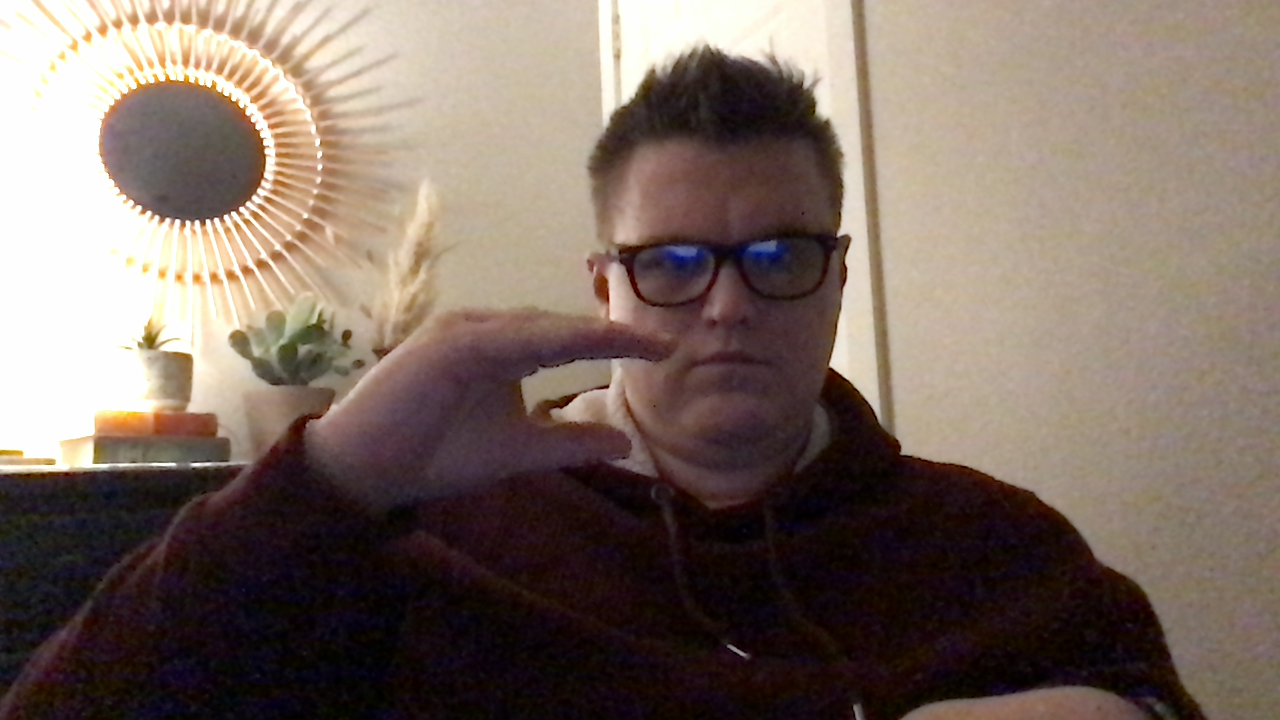no: (316, 300, 683, 497)
